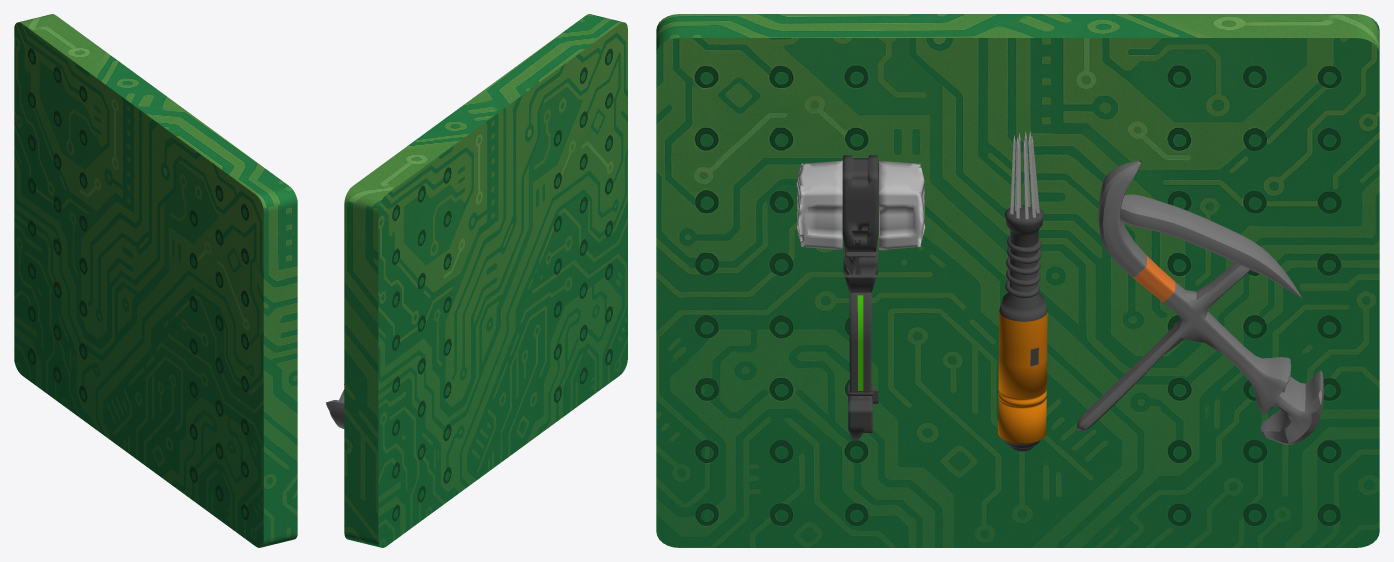
The model's file is Deco_Mural.fbx.
3 renders of one model, left to right at view 1: azimuth 30°, elevation 25°; view 2: azimuth 150°, elevation 25°; view 3: azimuth 270°, elevation 25°, orthographic. The views are drawn at different scales.
Visible parts, largest first — view 1: Cube; view 2: Cube, Ferramenta1; view 3: Cube, Ferramenta1, Martelo, Cube.001.
Part boxes in pixels (x1,y1,x2,y2): Cube: (14, 14, 297, 547); Cube: (344, 14, 627, 547); Ferramenta1: (326, 384, 344, 428); Cube: (656, 14, 1379, 547); Ferramenta1: (1076, 160, 1323, 444); Martelo: (796, 155, 925, 440); Cube.001: (998, 131, 1047, 451).
Bounding box in the file's own units: 21.71 × 116 × 90.62.
Materials: 16 (1 with a texture image).
